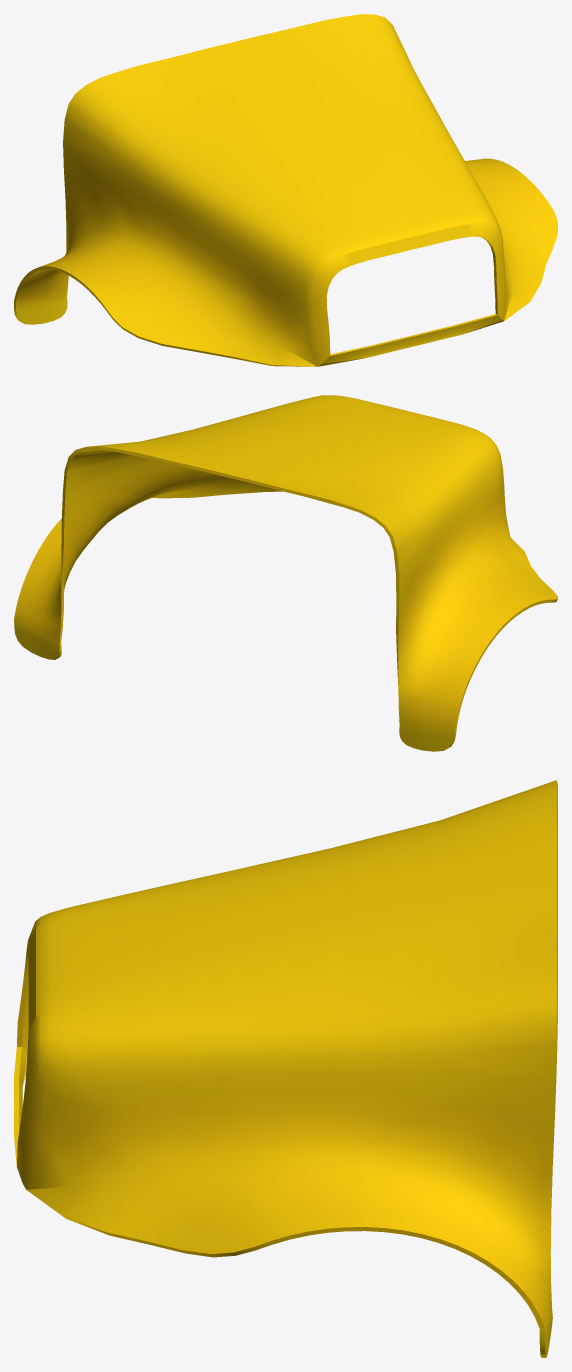
3 views of the same model, one above another, from view 1: azimuth 30°, elevation 25°; view 2: azimuth 150°, elevation 25°; view 3: azimuth 270°, elevation 25° (orthographic). The views are drawn at different scales.
Visible parts, largest first — view 1: kapota; view 2: kapota; view 3: kapota.
Part boxes in pixels (x1=…): kapota: x1=14, y1=14, x2=557, y2=366; kapota: x1=14, y1=395, x2=557, y2=751; kapota: x1=14, y1=780, x2=557, y2=1357.
Bounding box in the file's own units: 2.48 × 1.24 × 1.8.
